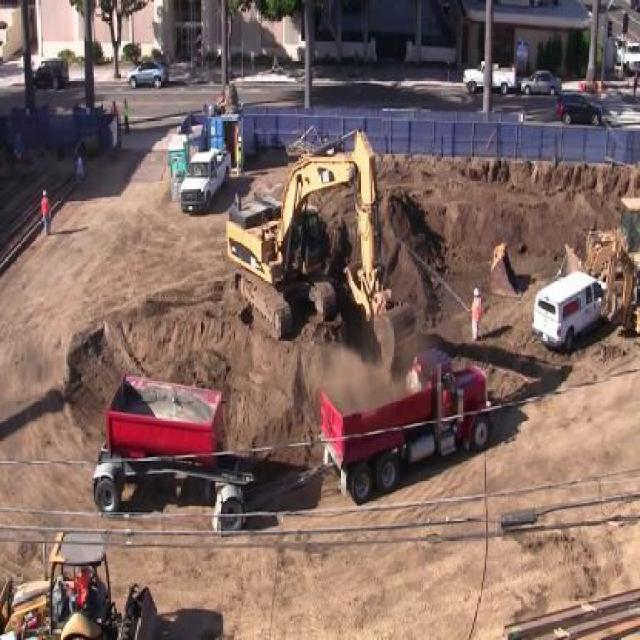Dump Truck: (316, 344, 492, 508)
Excavator: (226, 118, 417, 384)
